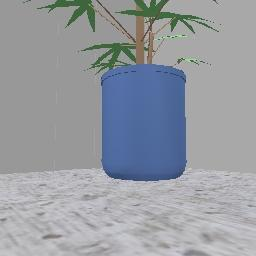planta: (82, 0, 218, 179)
